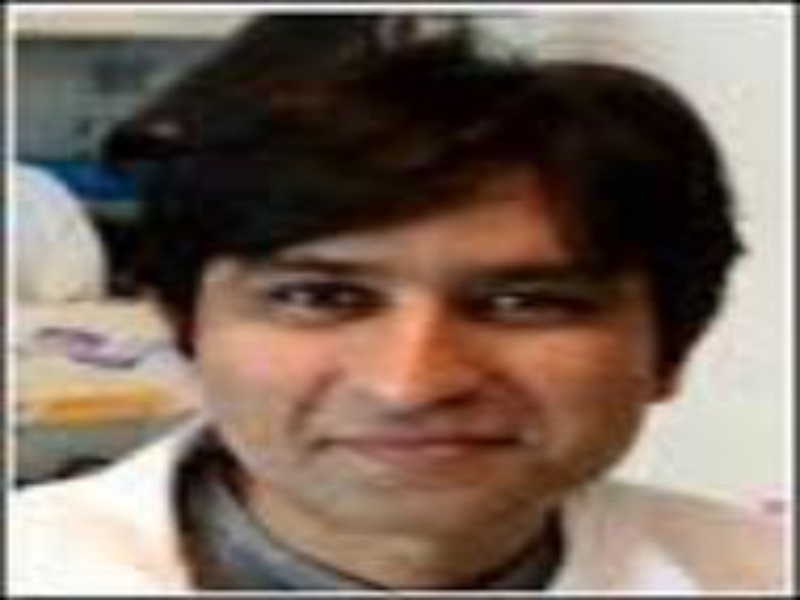TsisyArotava: (129, 17, 752, 590)
